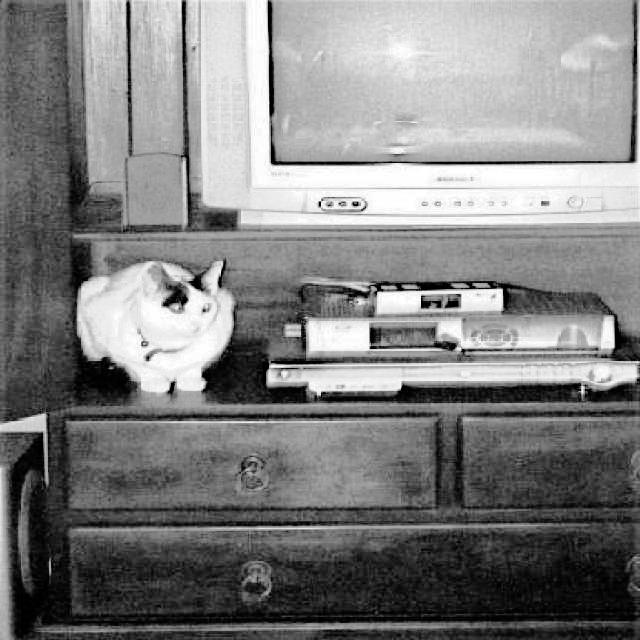Cat: (72, 254, 243, 401)
